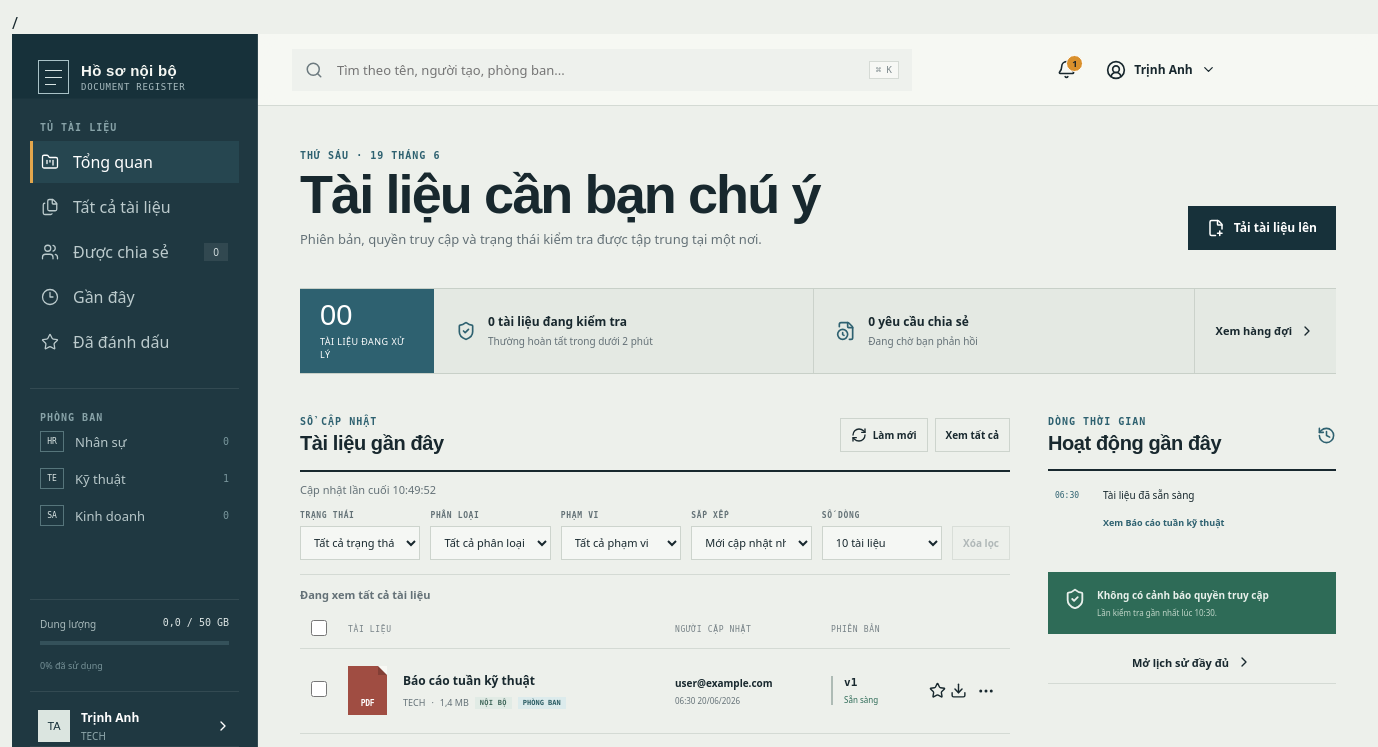
Test: App › mở trang tất cả tài liệu từ nút xem tất cả của dashboard
This screenshot has width=1378, height=747.
Expected: the button "Báo cáo tuần kỹ thuật" is shown, [403,672,535,689]
Click the button "Xem tất cả". click: {"x": 972, "y": 435}
box: [934,418,1010,452]
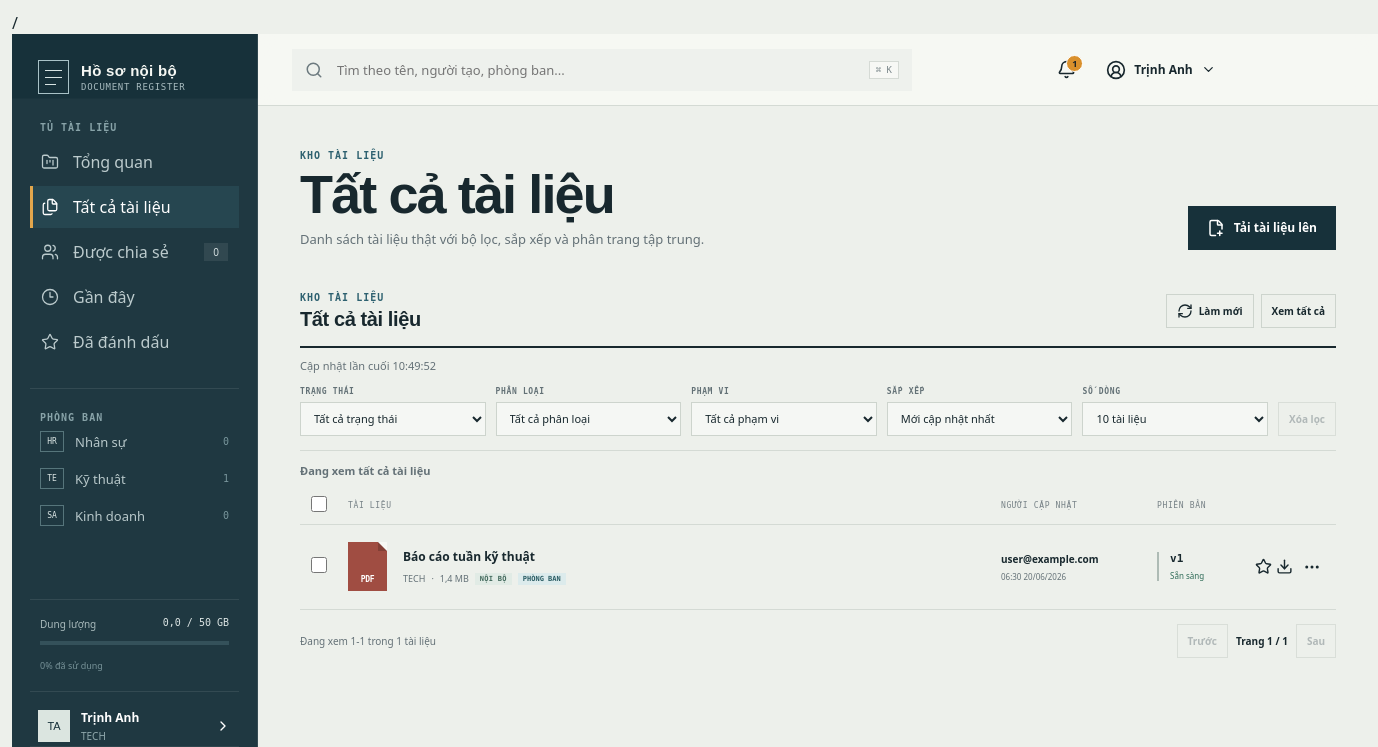
Expected: the 1st heading "Tất cả tài liệu" is shown, [300,164,614,224]
Expected: the heading "Hoạt động gần đây" is gone
